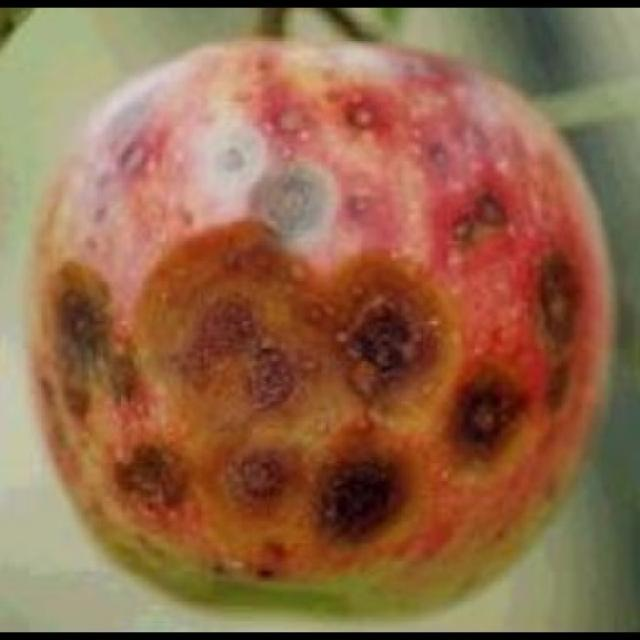Rotten Apple: (17, 27, 615, 618)
